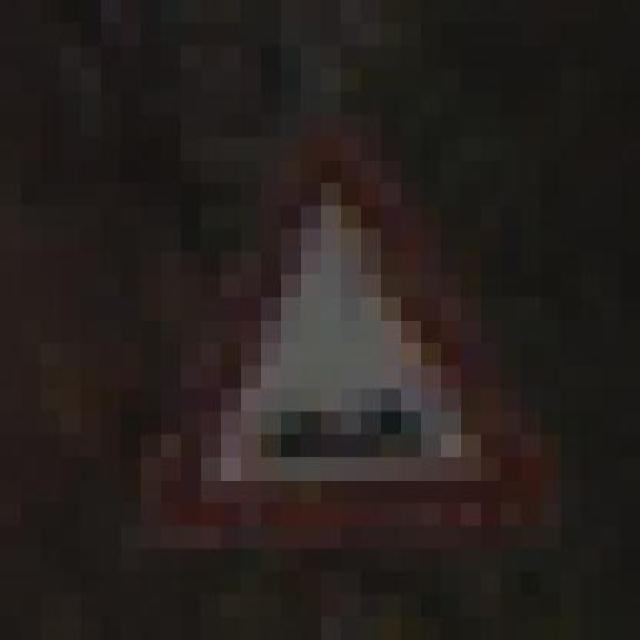Uneven Road: (120, 114, 560, 572)
